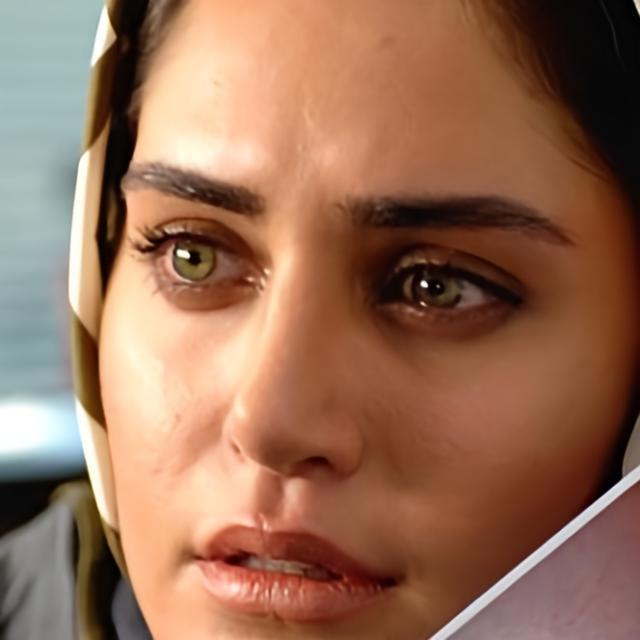sad: (98, 0, 640, 640)
